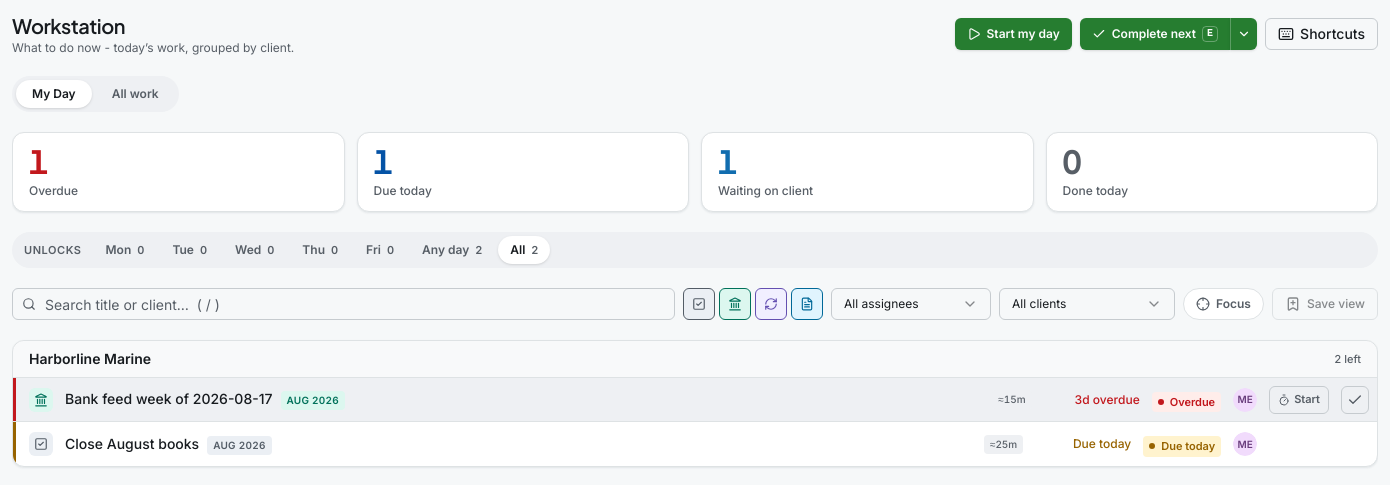
WorkstationQueue - My Day default (D1) › the stat chips sub-filter the My Day set
Click the button with test id "stat-overdue" at [54, 190], box [12,132,344,212]
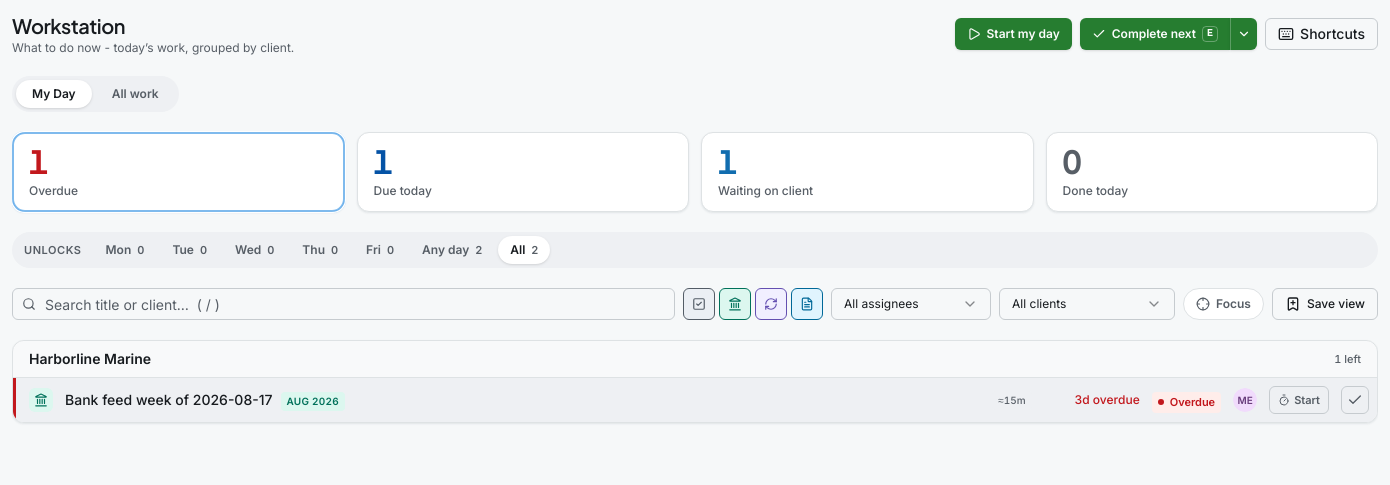
Check: the text "Bank feed week of 2026-08-17" is shown, box [65,390,272,410]
Check: the text "Close August books" is gone
Click the button with test id "stat-overdue" at [54, 190], box [12,132,344,212]
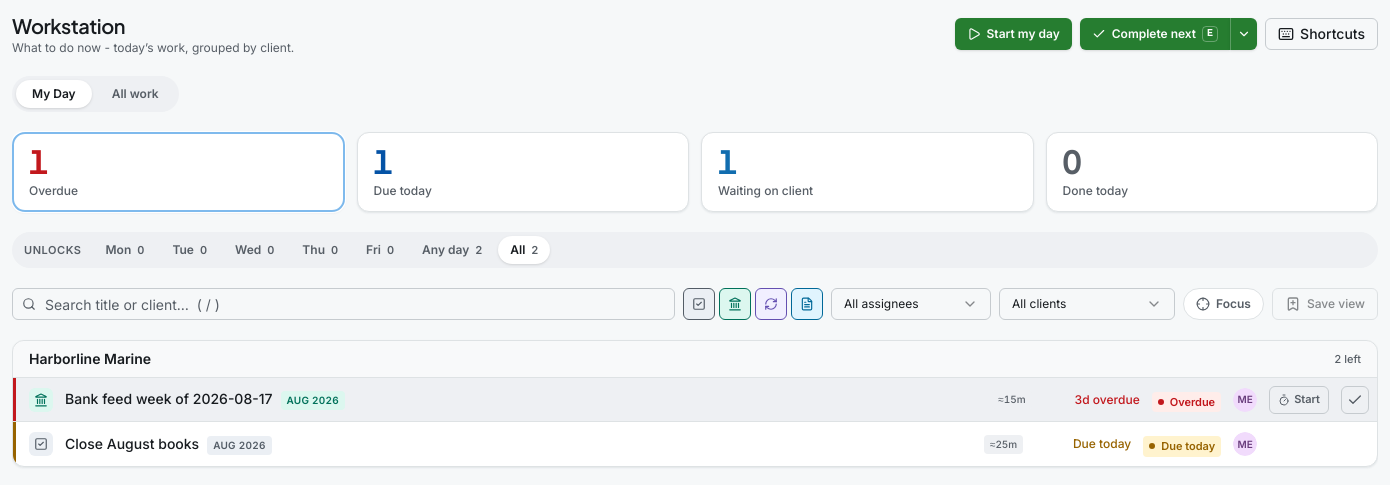
Check: the text "Close August books" is shown, box [65,434,199,454]
